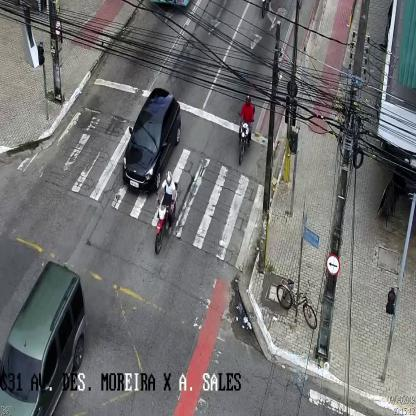bicycle: (277, 280, 317, 331)
car: (0, 260, 87, 415), (122, 88, 181, 196)
motorbike: (154, 170, 178, 253), (239, 94, 254, 166)
